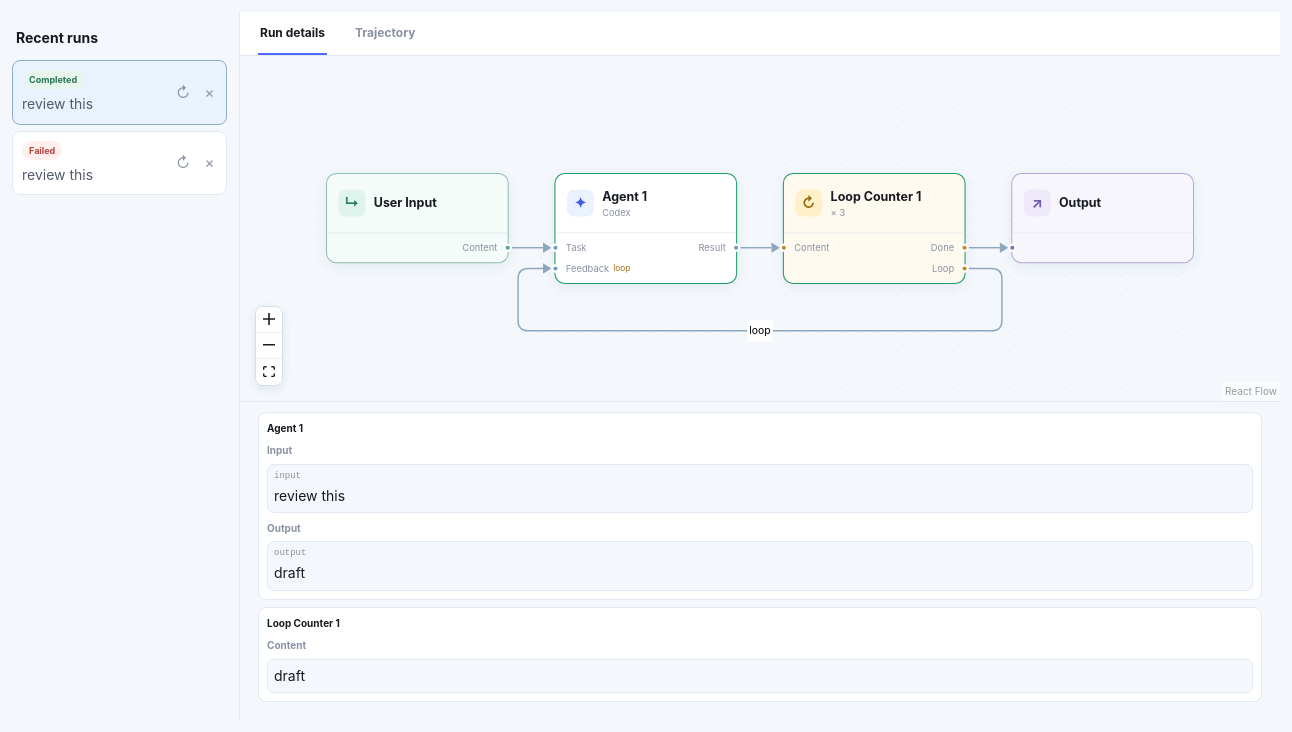
Test: zero-code Graph canvas › renders recent runs as rows and opens an immutable run snapshot
What coordinates should you click on to do the following:
click the button with aria-label "Run r1"
I would click on:
 (92, 92)
Its box is [17,65,166,120].
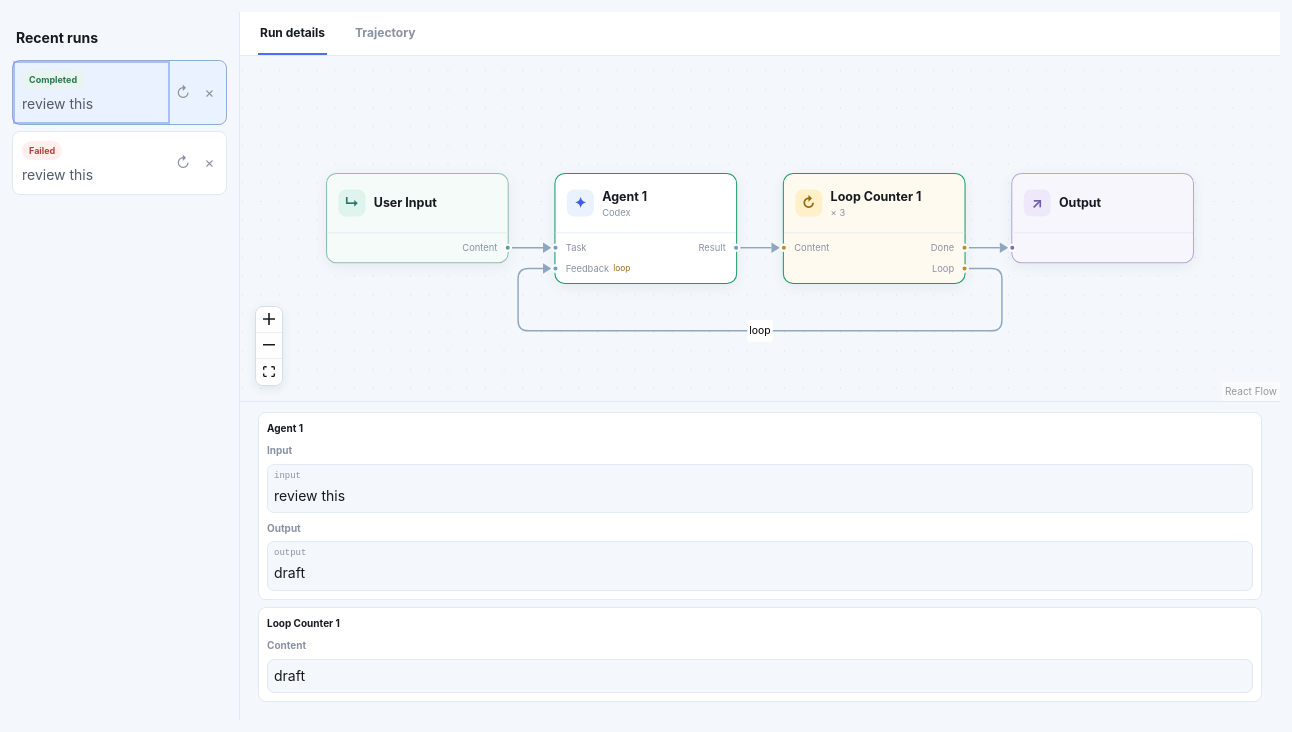
Check: the element named "Run snapshot" is shown, box [240,56,1280,402]
Check: the button named "Fit View" is shown, box [256,359,282,385]
What coordinates should you click on to do the following:
click the tab "Trajectory"
I would click on:
 (385, 34)
Its box is [353,12,417,55].
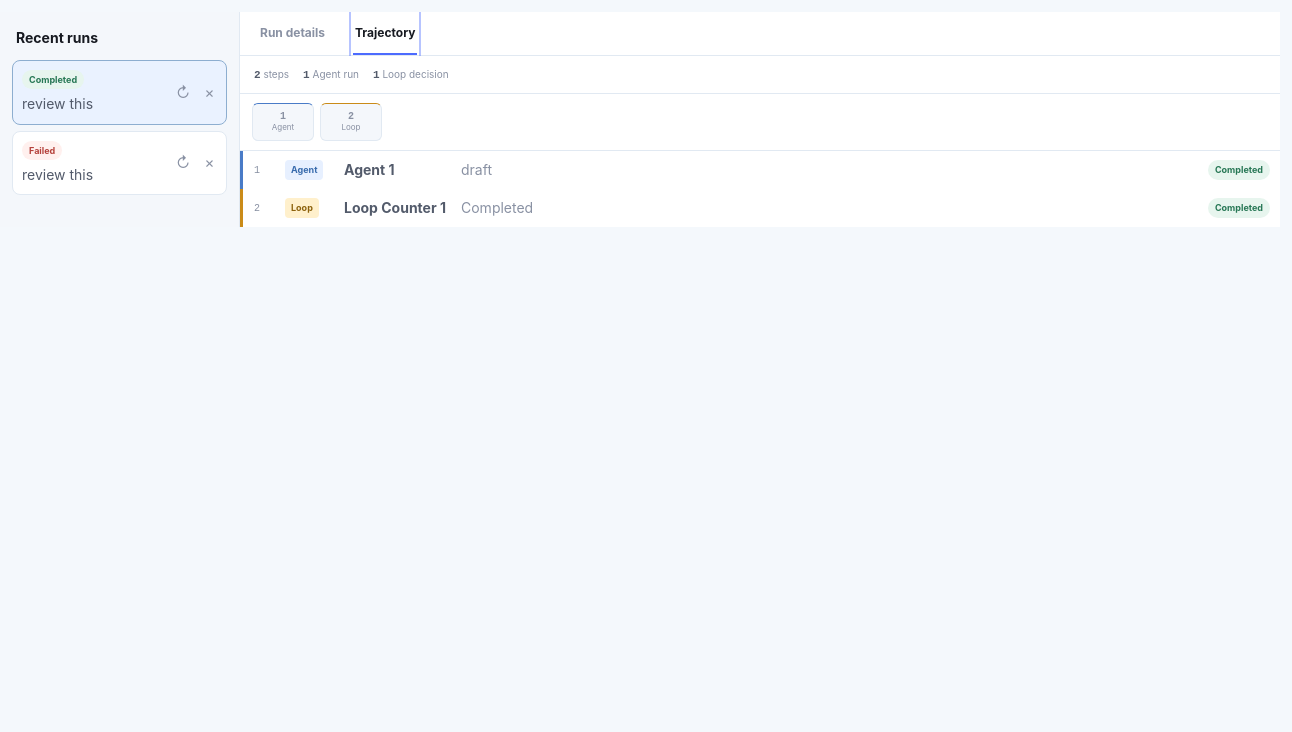
Check: the element named "Graph trajectory" is shown, box [240,56,1280,227]
